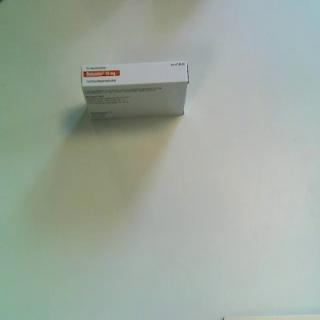dolcontin10mg: (80, 59, 190, 123)
